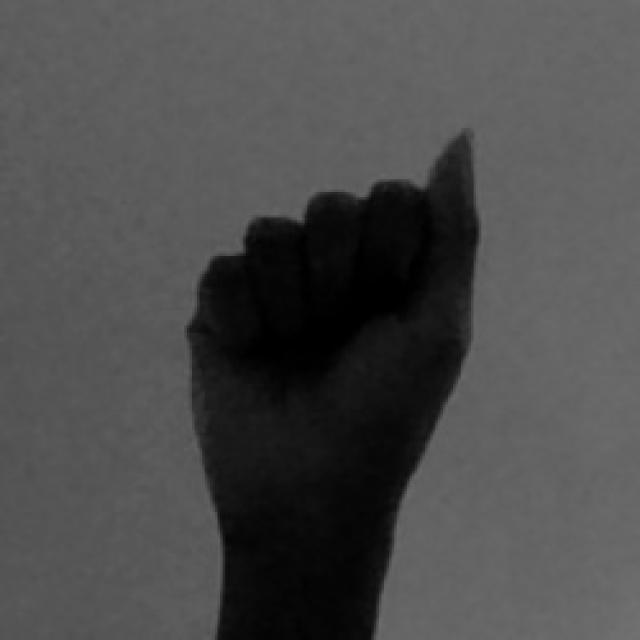A: (179, 120, 496, 640)
